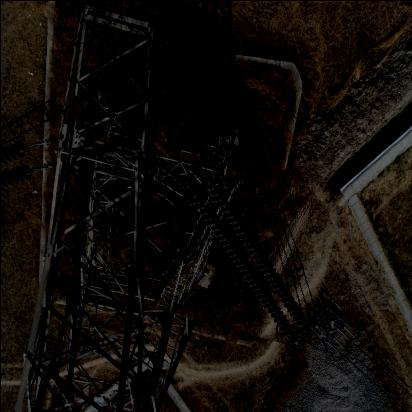insulator: (161, 175, 335, 340)
